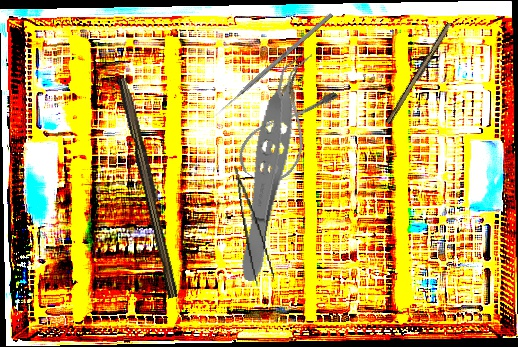Cannula: (230, 66, 342, 194)
Pusher: (211, 12, 334, 119)
Scalpel Handle: (114, 76, 185, 299), (385, 21, 454, 126)
Tissue Forceps: (231, 47, 313, 285), (234, 165, 276, 289)
